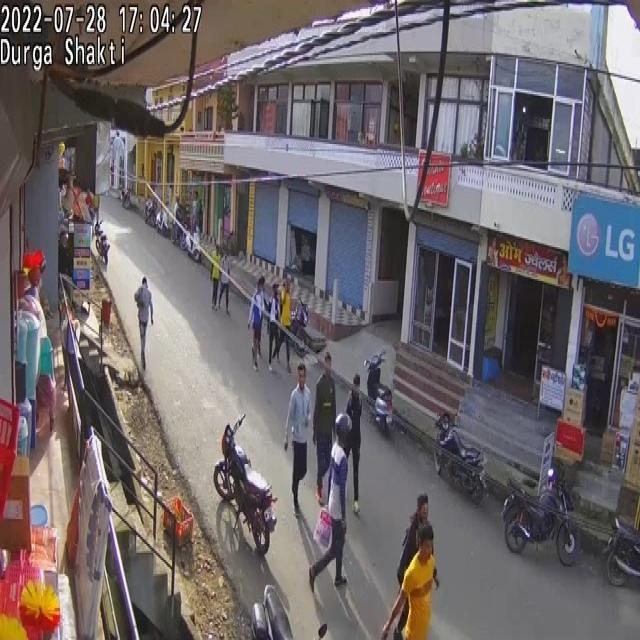non-fight: (308, 414, 350, 604), (394, 492, 437, 640), (248, 270, 298, 376), (312, 354, 337, 502), (345, 370, 364, 507), (135, 274, 154, 372), (285, 382, 312, 446), (214, 249, 231, 315), (174, 198, 184, 241), (192, 193, 202, 234)
